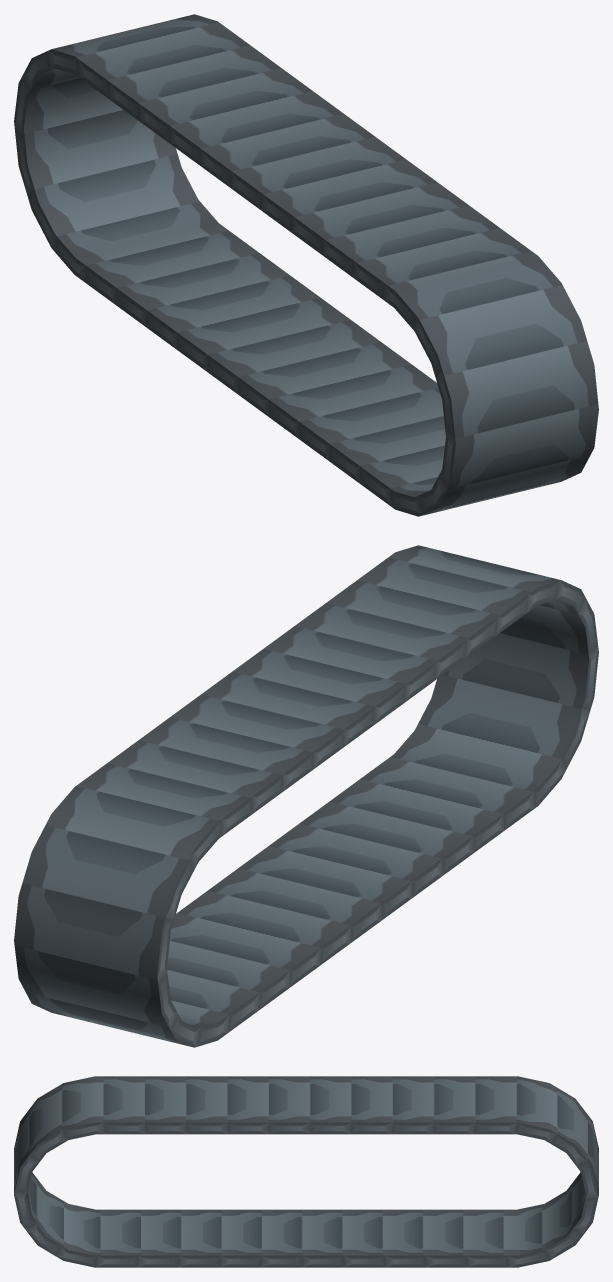
File: tank_6_track_002.fbx
3 views of the same model, one above another, from view 1: azimuth 30°, elevation 25°; view 2: azimuth 150°, elevation 25°; view 3: azimuth 270°, elevation 25° (orthographic). The views are drawn at different scales.
Parts seen in each view (by area): view 1: tank_6_track_002; view 2: tank_6_track_002; view 3: tank_6_track_002.
Part boxes in pixels (x1,y1,x2,y2): tank_6_track_002: [14, 14, 598, 516]; tank_6_track_002: [14, 545, 598, 1047]; tank_6_track_002: [14, 1076, 598, 1267].
Size of the model in its own units: 171 by 916 by 250.
